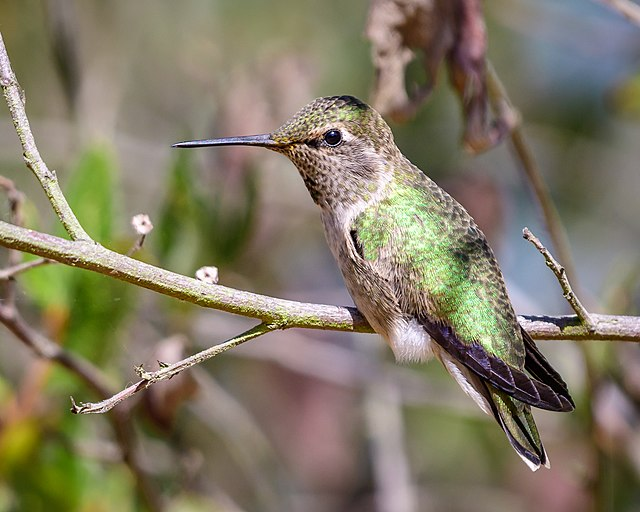calypte anna: (164, 87, 574, 472)
